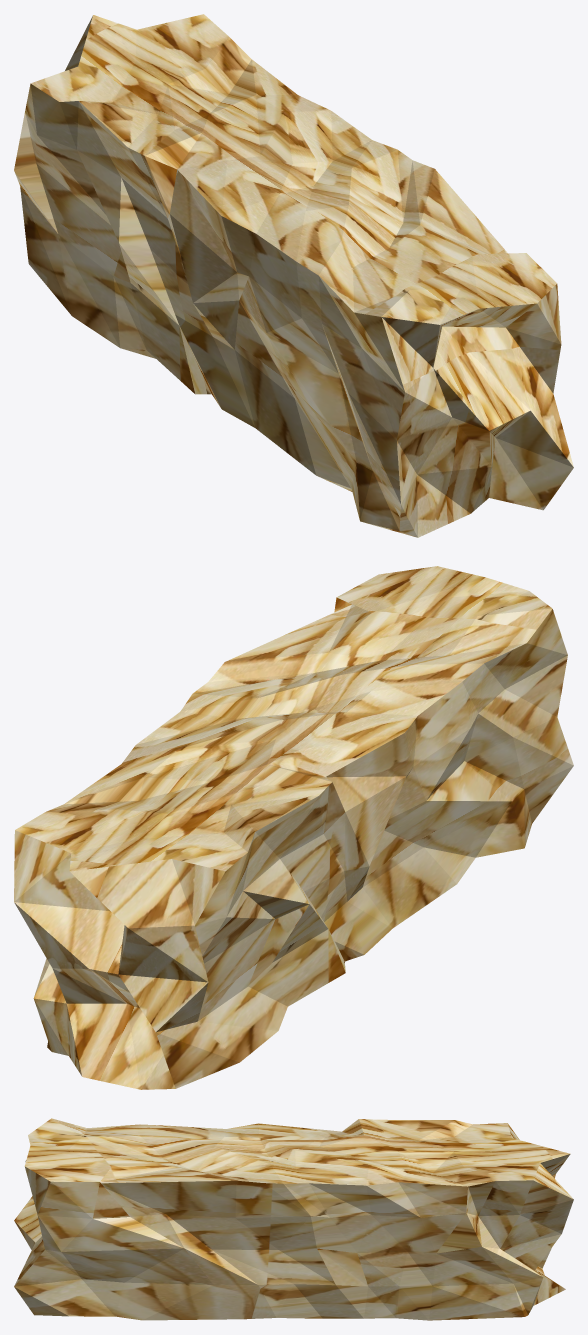
File: FrierFrench.fbx
3 views of the same model, one above another, from view 1: azimuth 30°, elevation 25°; view 2: azimuth 150°, elevation 25°; view 3: azimuth 270°, elevation 25° (orthographic). The views are drawn at different scales.
Parts seen in each view (by area): view 1: FrierFrench; view 2: FrierFrench; view 3: FrierFrench.
Boxes of the visible parts, x1,y1,x2,y2 form: FrierFrench: (14,14,573,537); FrierFrench: (14,566,573,1089); FrierFrench: (14,1118,573,1320).
Bounding box in the file's own units: 1.41 × 1.54 × 5.04.
